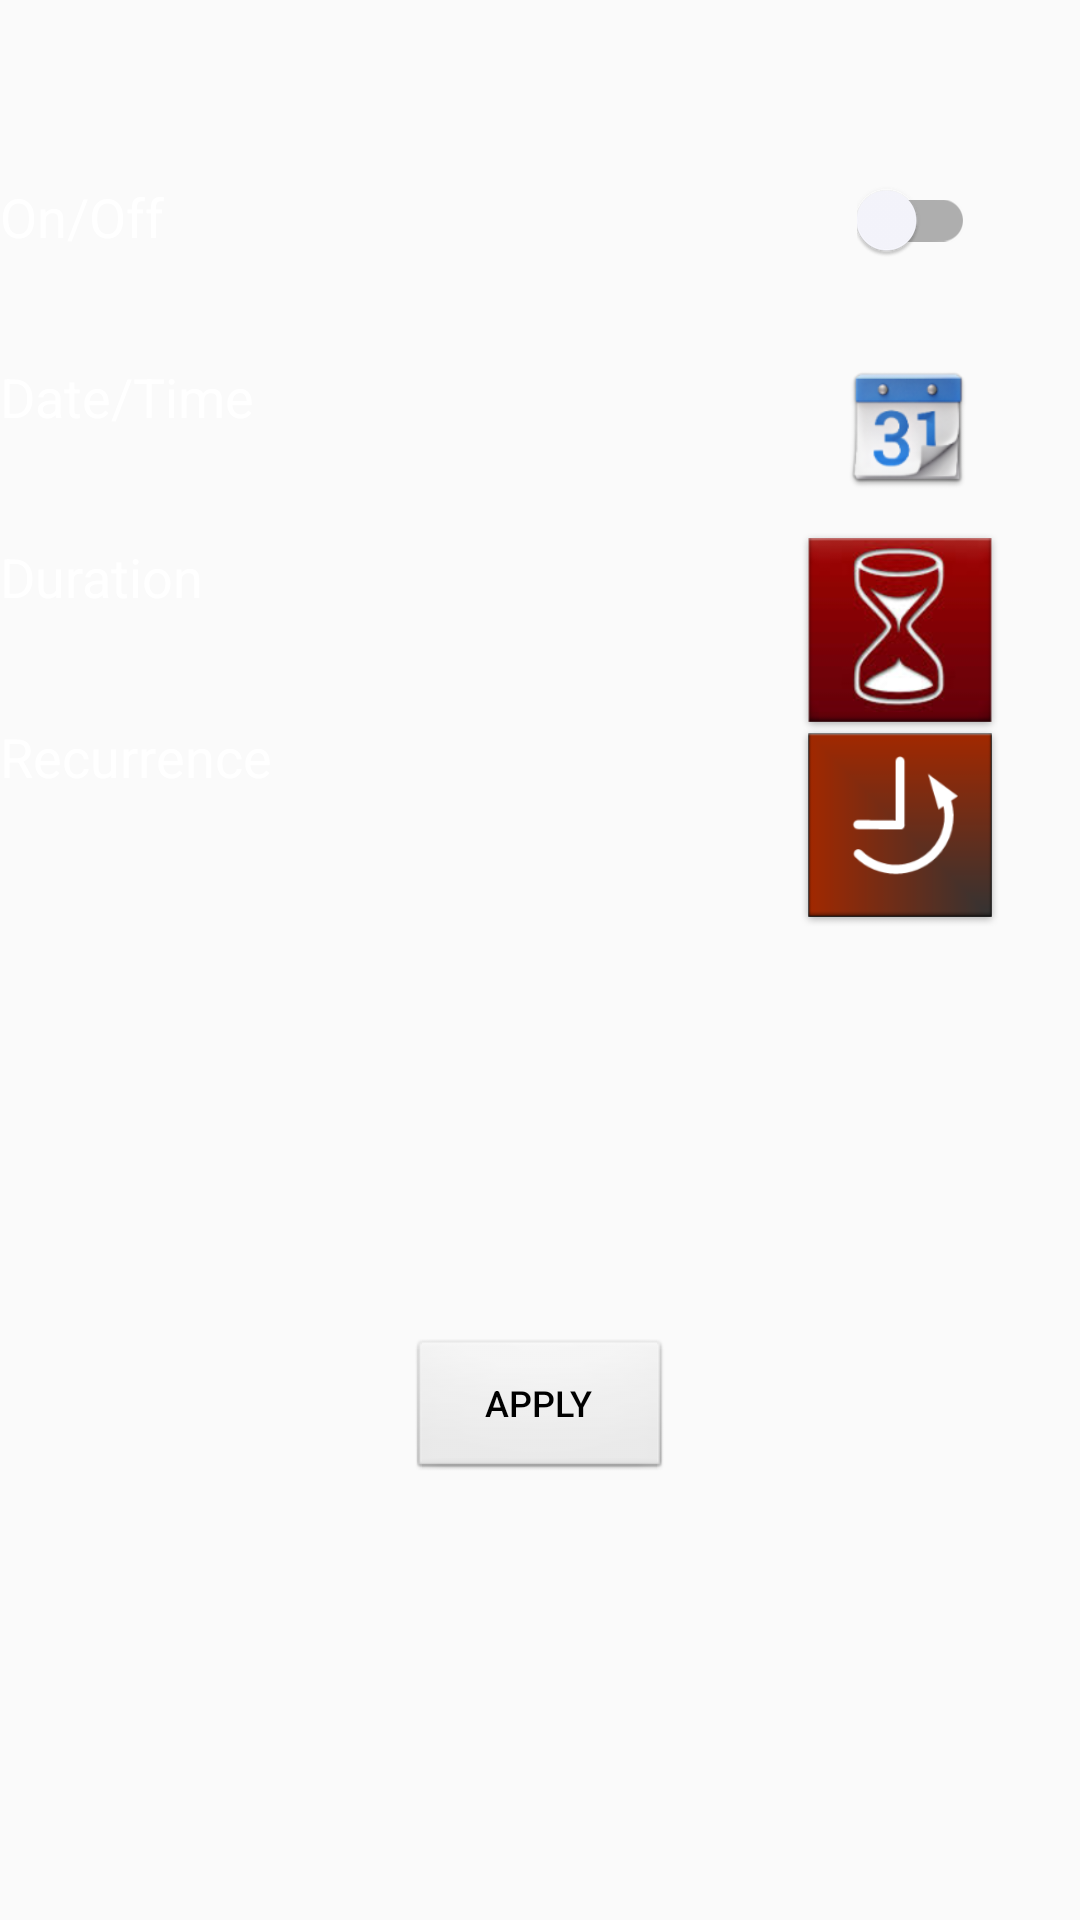

Where icons sit on this 1080*1920 app screen, as (x1, y1, x2, y2):
calendar: (852, 373, 963, 484)
